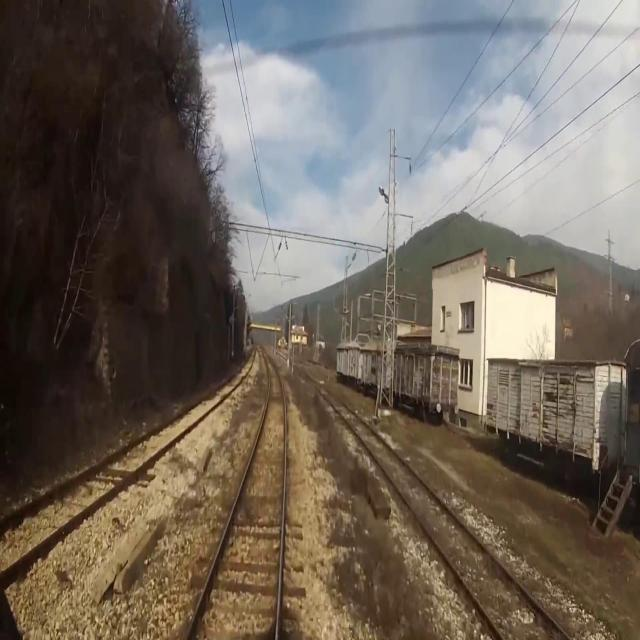rail-track: (325, 391, 565, 639), (0, 353, 253, 567), (189, 357, 283, 639)
